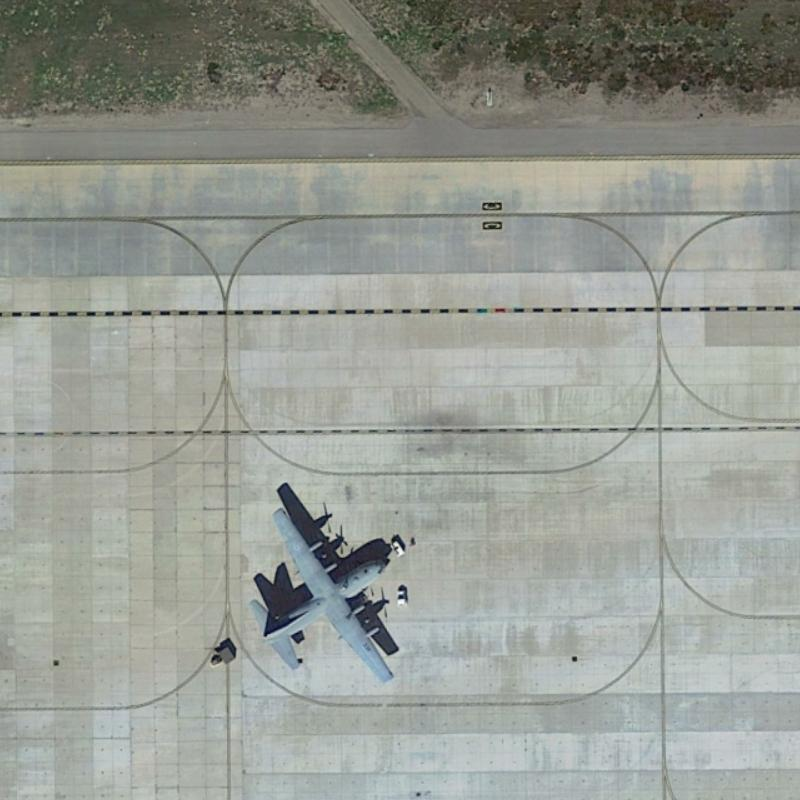A2: (242, 495, 415, 691)
